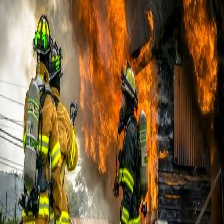fire: (71, 4, 222, 214)
